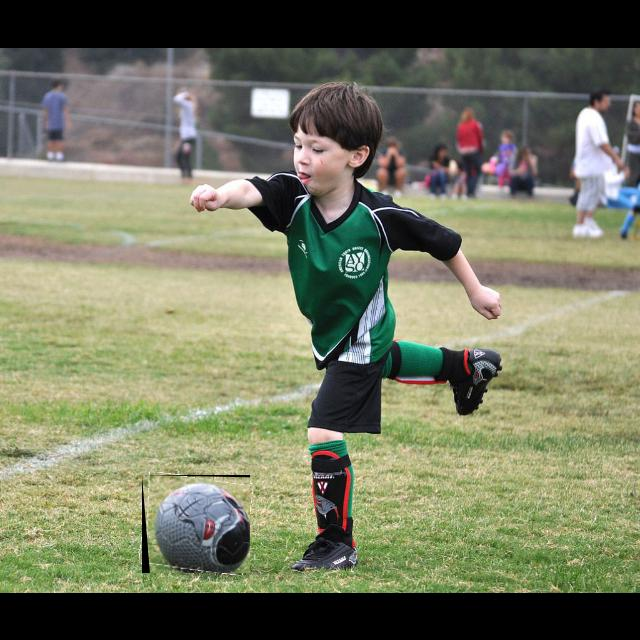Football: (142, 475, 250, 573)
